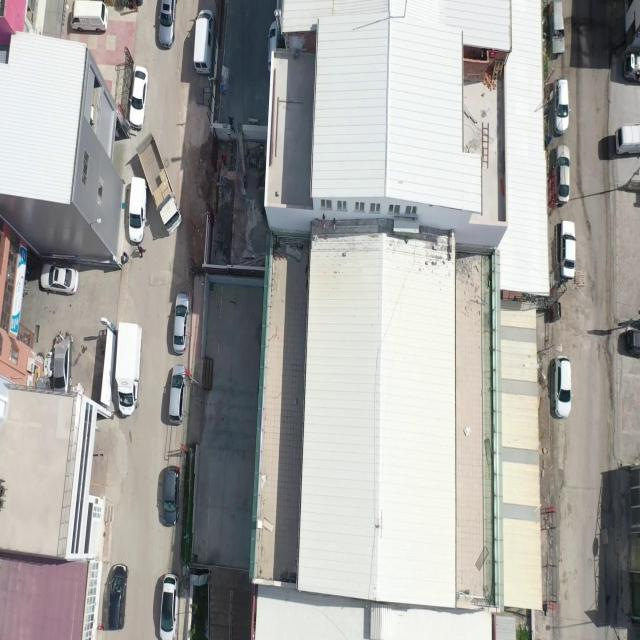p3rson: (136, 241, 146, 260), (220, 153, 228, 167)
